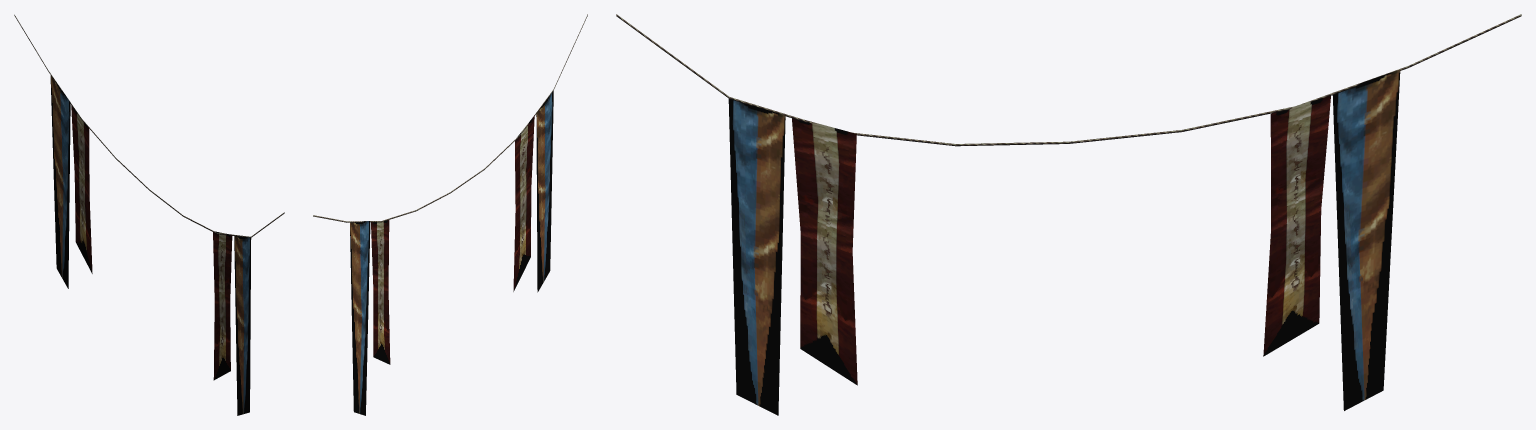
The model's file is OZ_40_mi_birth04A.glb.
The picture shows the model from 3 angles, left to right: view 1: azimuth 30°, elevation 25°; view 2: azimuth 150°, elevation 25°; view 3: azimuth 270°, elevation 25°; orthographic projection. The views are drawn at different scales.
Parts seen in each view (by area): view 1: OM_40_mi_birth04A; view 2: OM_40_mi_birth04A; view 3: OM_40_mi_birth04A.
Part boxes in pixels (<box>): OM_40_mi_birth04A: <box>14,14,284,415</box>; OM_40_mi_birth04A: <box>313,14,587,415</box>; OM_40_mi_birth04A: <box>616,14,1521,415</box>.
Size of the model in its own units: 0.0411 by 8.04 by 16.46.
1 material, 1 textured.
